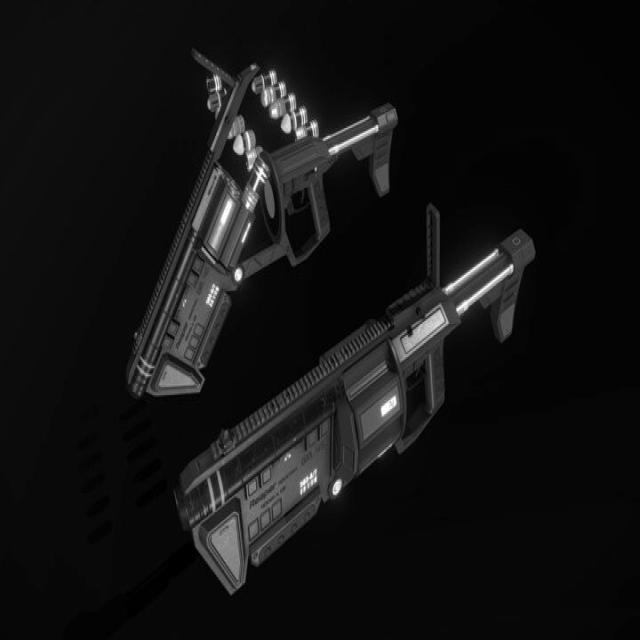Lancher: (177, 120, 570, 593), (111, 50, 396, 352)
